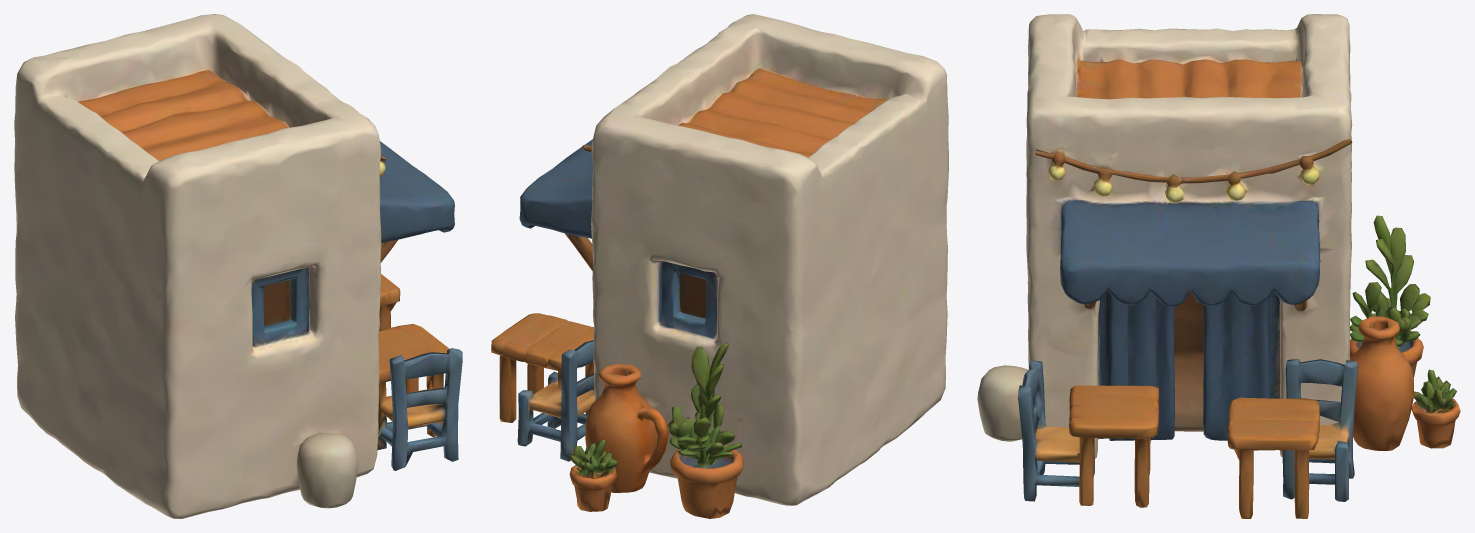
File: tavern.glb
3 views of the same model, side by side, from view 1: azimuth 30°, elevation 25°; view 2: azimuth 150°, elevation 25°; view 3: azimuth 270°, elevation 25° (orthographic). The views are drawn at different scales.
Visible parts, largest first — view 1: tripo_node_99ace43e-256b-42d2-b011-b3d9f49c481c; view 2: tripo_node_99ace43e-256b-42d2-b011-b3d9f49c481c; view 3: tripo_node_99ace43e-256b-42d2-b011-b3d9f49c481c.
Part boxes in pixels (x1,y1,x2,y2): tripo_node_99ace43e-256b-42d2-b011-b3d9f49c481c: (14, 14, 462, 518); tripo_node_99ace43e-256b-42d2-b011-b3d9f49c481c: (491, 14, 948, 518); tripo_node_99ace43e-256b-42d2-b011-b3d9f49c481c: (977, 14, 1460, 518).
Size of the model in its own units: 0.8069 by 0.8146 by 1.
Materials: 1 (1 with a texture image).
